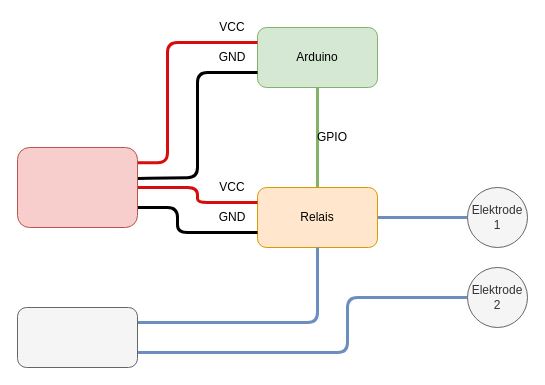
Image size: 545x385. Some labels were removed from this diagram. Here are the shapes that lost their labels. From the top down, the box of each, then its label:
(16, 146, 138, 228): Powerbank
(16, 306, 138, 368): TENS-Unit
